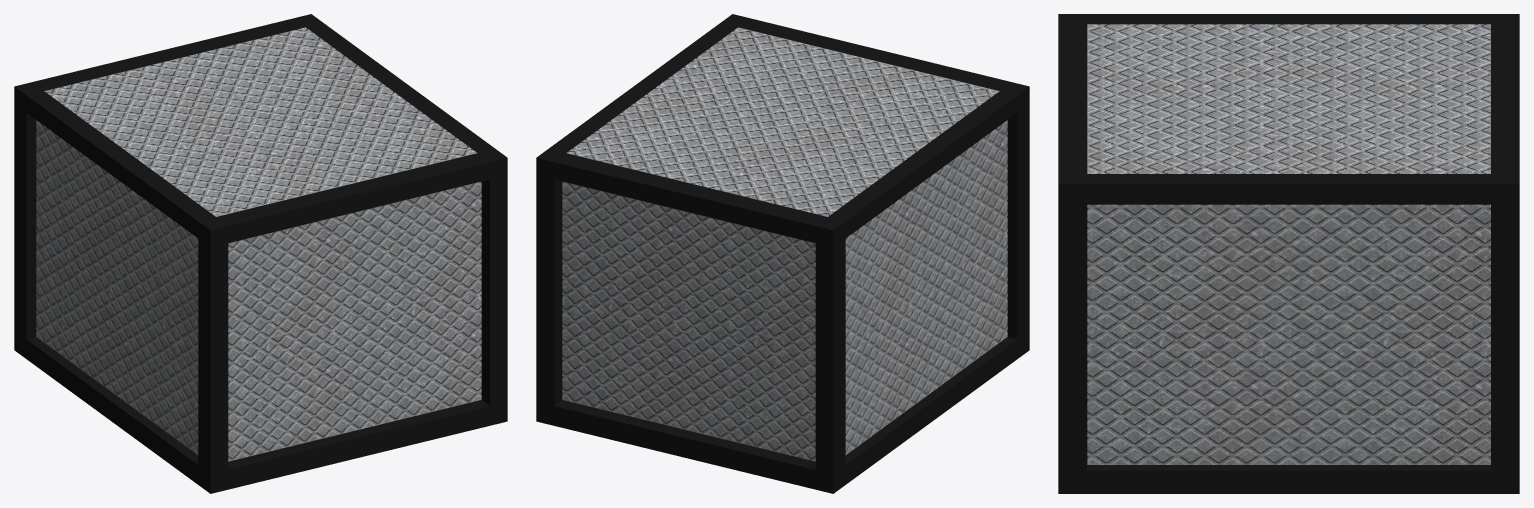
The model's file is skrzynka1.FBX.
The picture shows the model from 3 angles, left to right: view 1: azimuth 30°, elevation 25°; view 2: azimuth 150°, elevation 25°; view 3: azimuth 270°, elevation 25°; orthographic projection. The views are drawn at different scales.
Parts seen in each view (by area): view 1: Box1091; view 2: Box1091; view 3: Box1091.
Boxes of the visible parts, x1,y1,x2,y2 form: Box1091: (14,14,507,493); Box1091: (536,14,1029,493); Box1091: (1058,14,1519,493).
Size of the model in its own units: 2.83 by 2.4 by 3.24.
2 materials, 1 textured.
